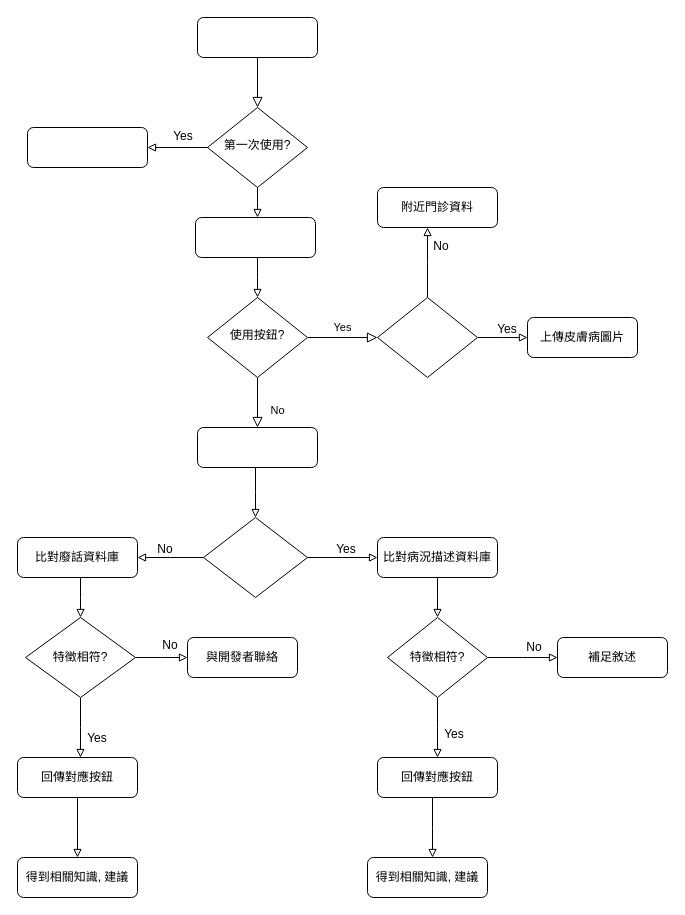
Image size: 685x915. Some labels were removed from this diagram. Each missing label, with the centre of its shape:
"具體描述?" goes at pixel 255 557.
"圖像辨識?" goes at pixel 427 337.
"確認病人資料" goes at pixel 255 237.
"輸入基本資料" goes at pixel 87 147.
"輸入病況描述" goes at pixel 257 447.
"開始" goes at pixel 257 37.
